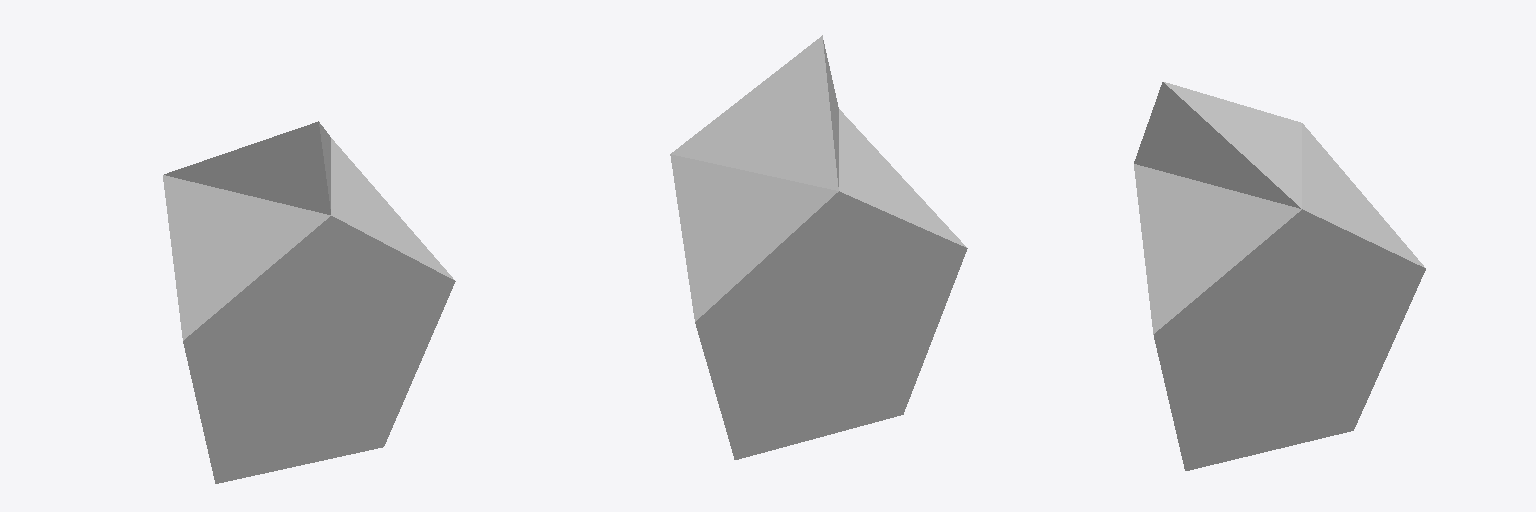
File: AugmentedTridiminishedIcosahedron.obj
The picture shows the model from 3 angles: view 1: azimuth 30°, elevation 25°; view 2: azimuth 150°, elevation 25°; view 3: azimuth 270°, elevation 25°; orthographic projection.
Visible parts, largest first — view 1: AugmentedTriDiminishedIcosahedron; view 2: AugmentedTriDiminishedIcosahedron; view 3: AugmentedTriDiminishedIcosahedron.
Part boxes in pixels (left/top/right/bottom): AugmentedTriDiminishedIcosahedron: left=163, top=121, right=455, bottom=483; AugmentedTriDiminishedIcosahedron: left=670, top=35, right=967, bottom=459; AugmentedTriDiminishedIcosahedron: left=1134, top=82, right=1425, bottom=470.
Bounding box in the file's own units: 1.21 × 1.5 × 1.13.